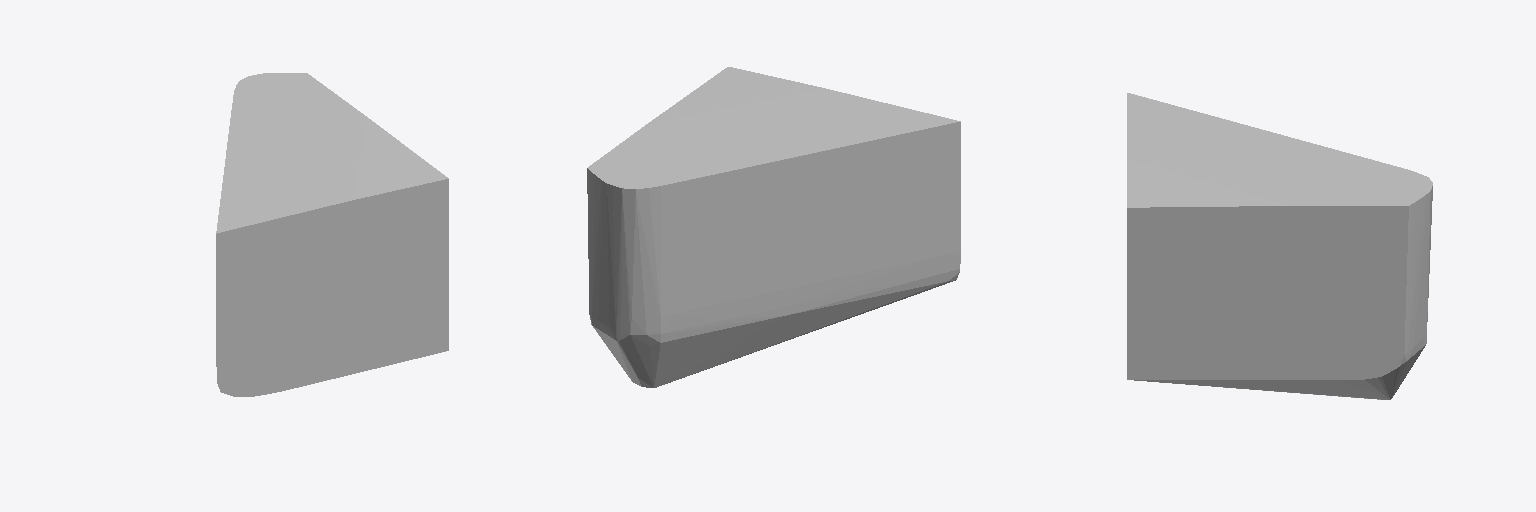
File: sofa_collision_14.obj
3 views of the same model, side by side, from view 1: azimuth 30°, elevation 25°; view 2: azimuth 150°, elevation 25°; view 3: azimuth 270°, elevation 25° (orthographic).
Bounding box in the file's own units: 129 × 113 × 147.